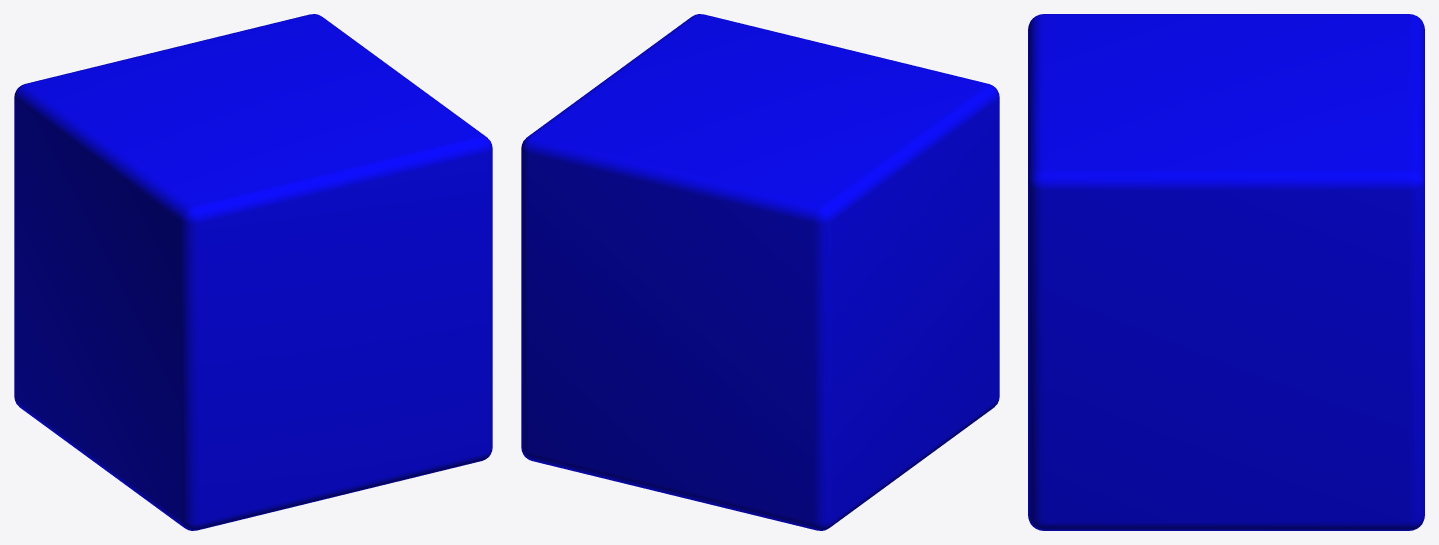
Rendered from cube-blue.glb.
3 views of the same model, side by side, from view 1: azimuth 30°, elevation 25°; view 2: azimuth 150°, elevation 25°; view 3: azimuth 270°, elevation 25° (orthographic). The views are drawn at different scales.
Parts seen in each view (by area): view 1: Cube; view 2: Cube; view 3: Cube.
Part boxes in pixels (box(x1,y1,x2,y2)): Cube: box(14, 14, 492, 530); Cube: box(521, 14, 999, 530); Cube: box(1028, 14, 1424, 530).
Size of the model in its own units: 0.2 by 0.2 by 0.2.
